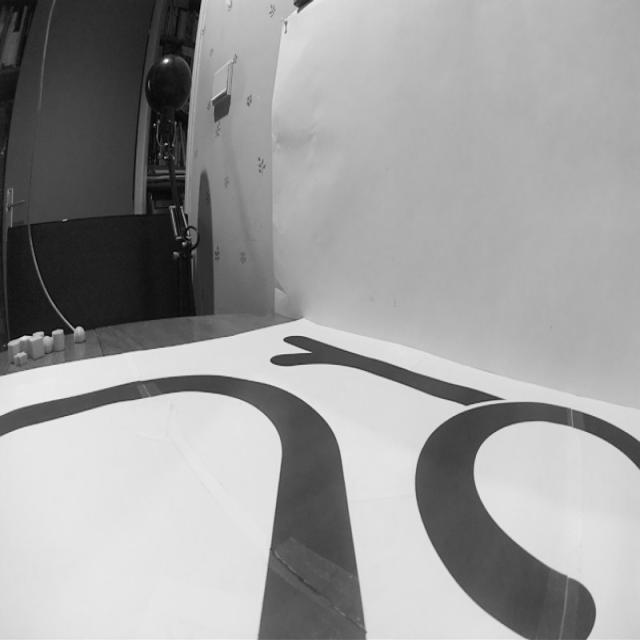lineStraight: (243, 482, 374, 640)
